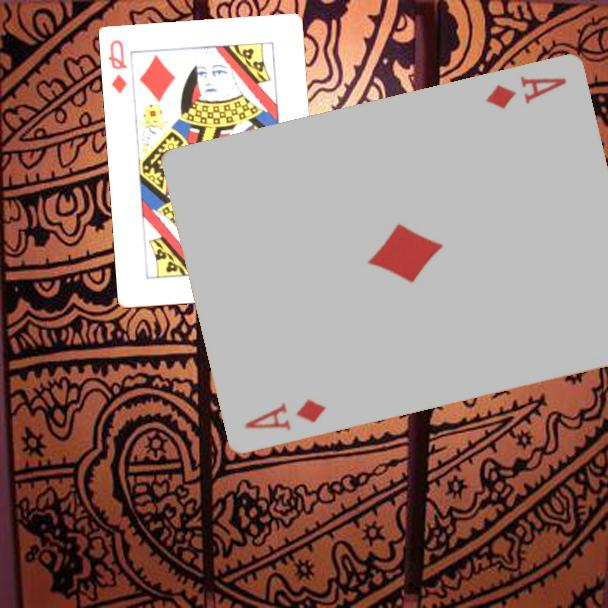d01: (482, 72, 570, 112), (241, 395, 329, 433)
d12: (105, 37, 131, 97)
